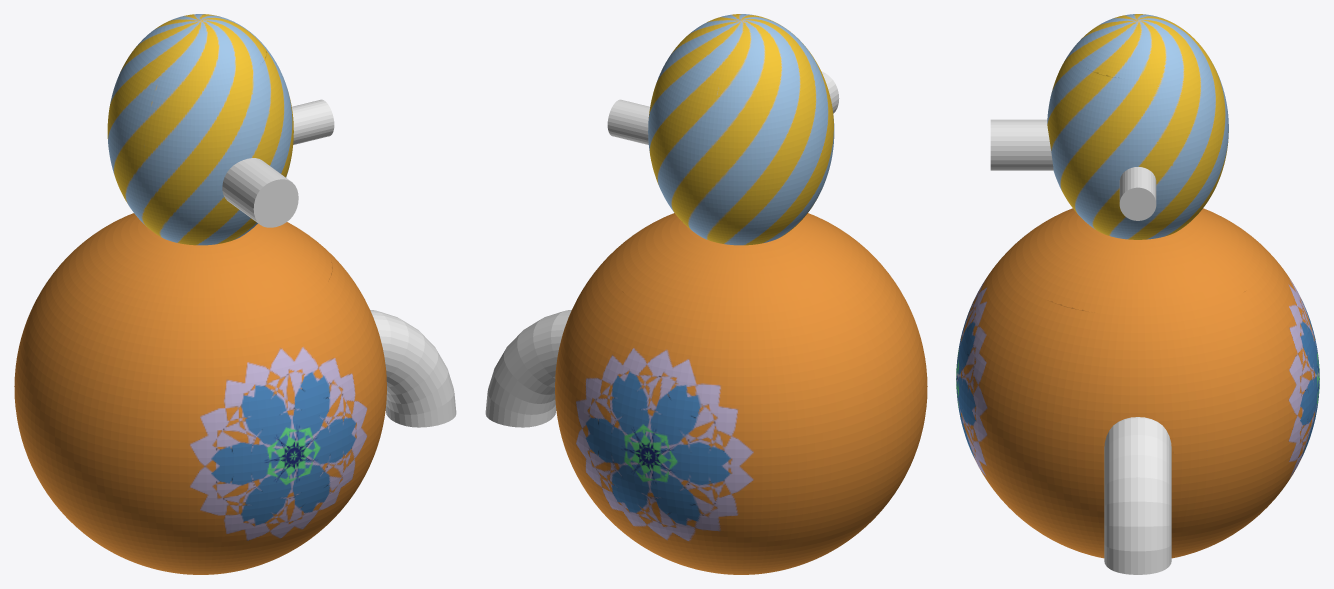
Rendered from BOD0_BMC5_BCC5_BPT2_FRC11_HEA2_HMC15_HCC6_HPT3_ELT0_ERT1_ELL2_ERL2_AP2_AAL2_AAR2_BEK1.fbx.
3 views of the same model, side by side, from view 1: azimuth 30°, elevation 25°; view 2: azimuth 150°, elevation 25°; view 3: azimuth 270°, elevation 25° (orthographic). The views are drawn at different scales.
Parts seen in each view (by area): view 1: Body, Arm, Beak, Ear; view 2: Body, Arm, Ear; view 3: Body, Arm, Beak, Ear.
Part boxes in pixels (<box>): Body: <box>14,14,386,574</box>; Arm: <box>370,310,456,427</box>; Beak: <box>222,158,298,227</box>; Ear: <box>292,99,334,144</box>; Body: <box>555,14,927,574</box>; Arm: <box>485,310,571,427</box>; Ear: <box>607,99,649,144</box>; Body: <box>956,14,1319,558</box>; Arm: <box>1104,417,1171,574</box>; Beak: <box>990,119,1053,170</box>; Ear: <box>1119,167,1156,220</box>.
Bounding box in the file's own units: 62.99 × 78.65 × 49.36.
1 material, 1 textured.
